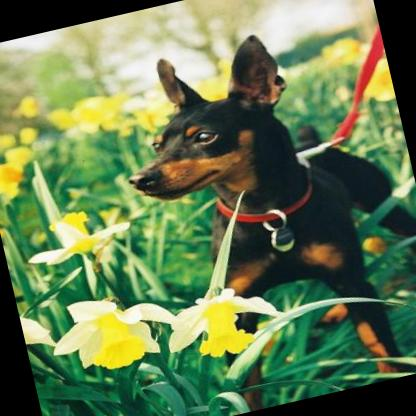miniature_pinscher: (99, 6, 416, 416)
